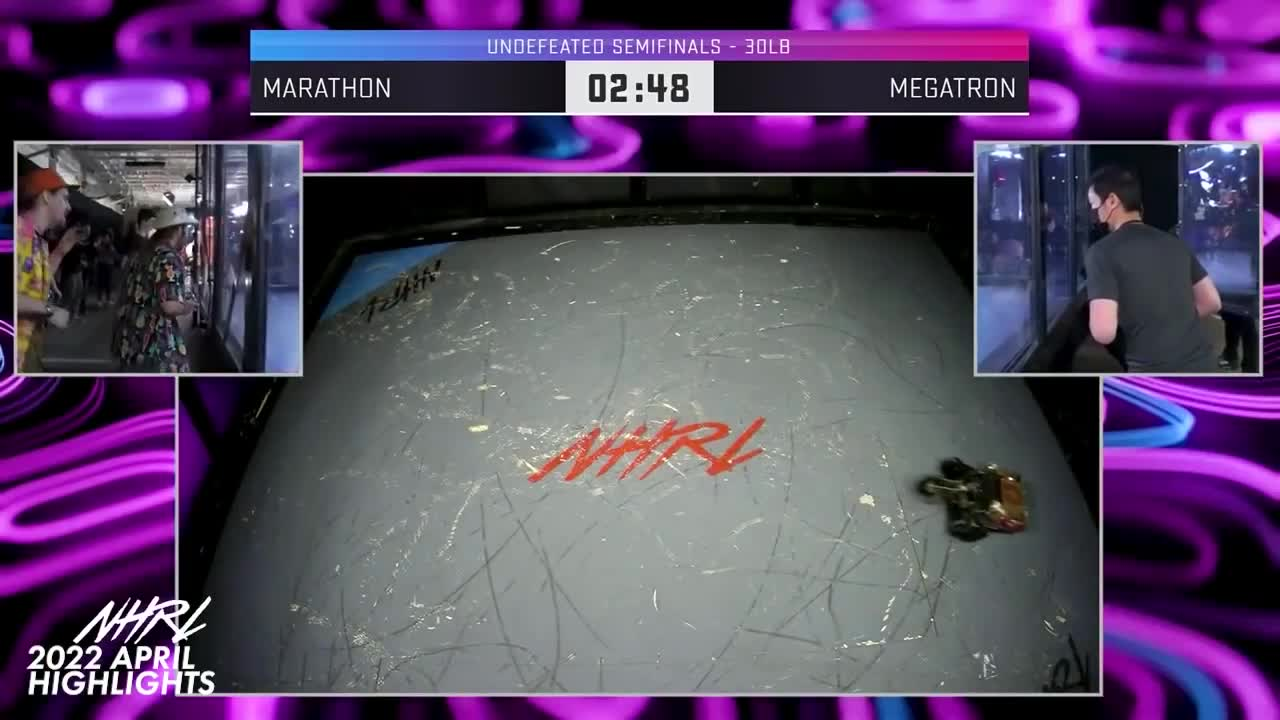combatbot: (919, 457, 1030, 546)
